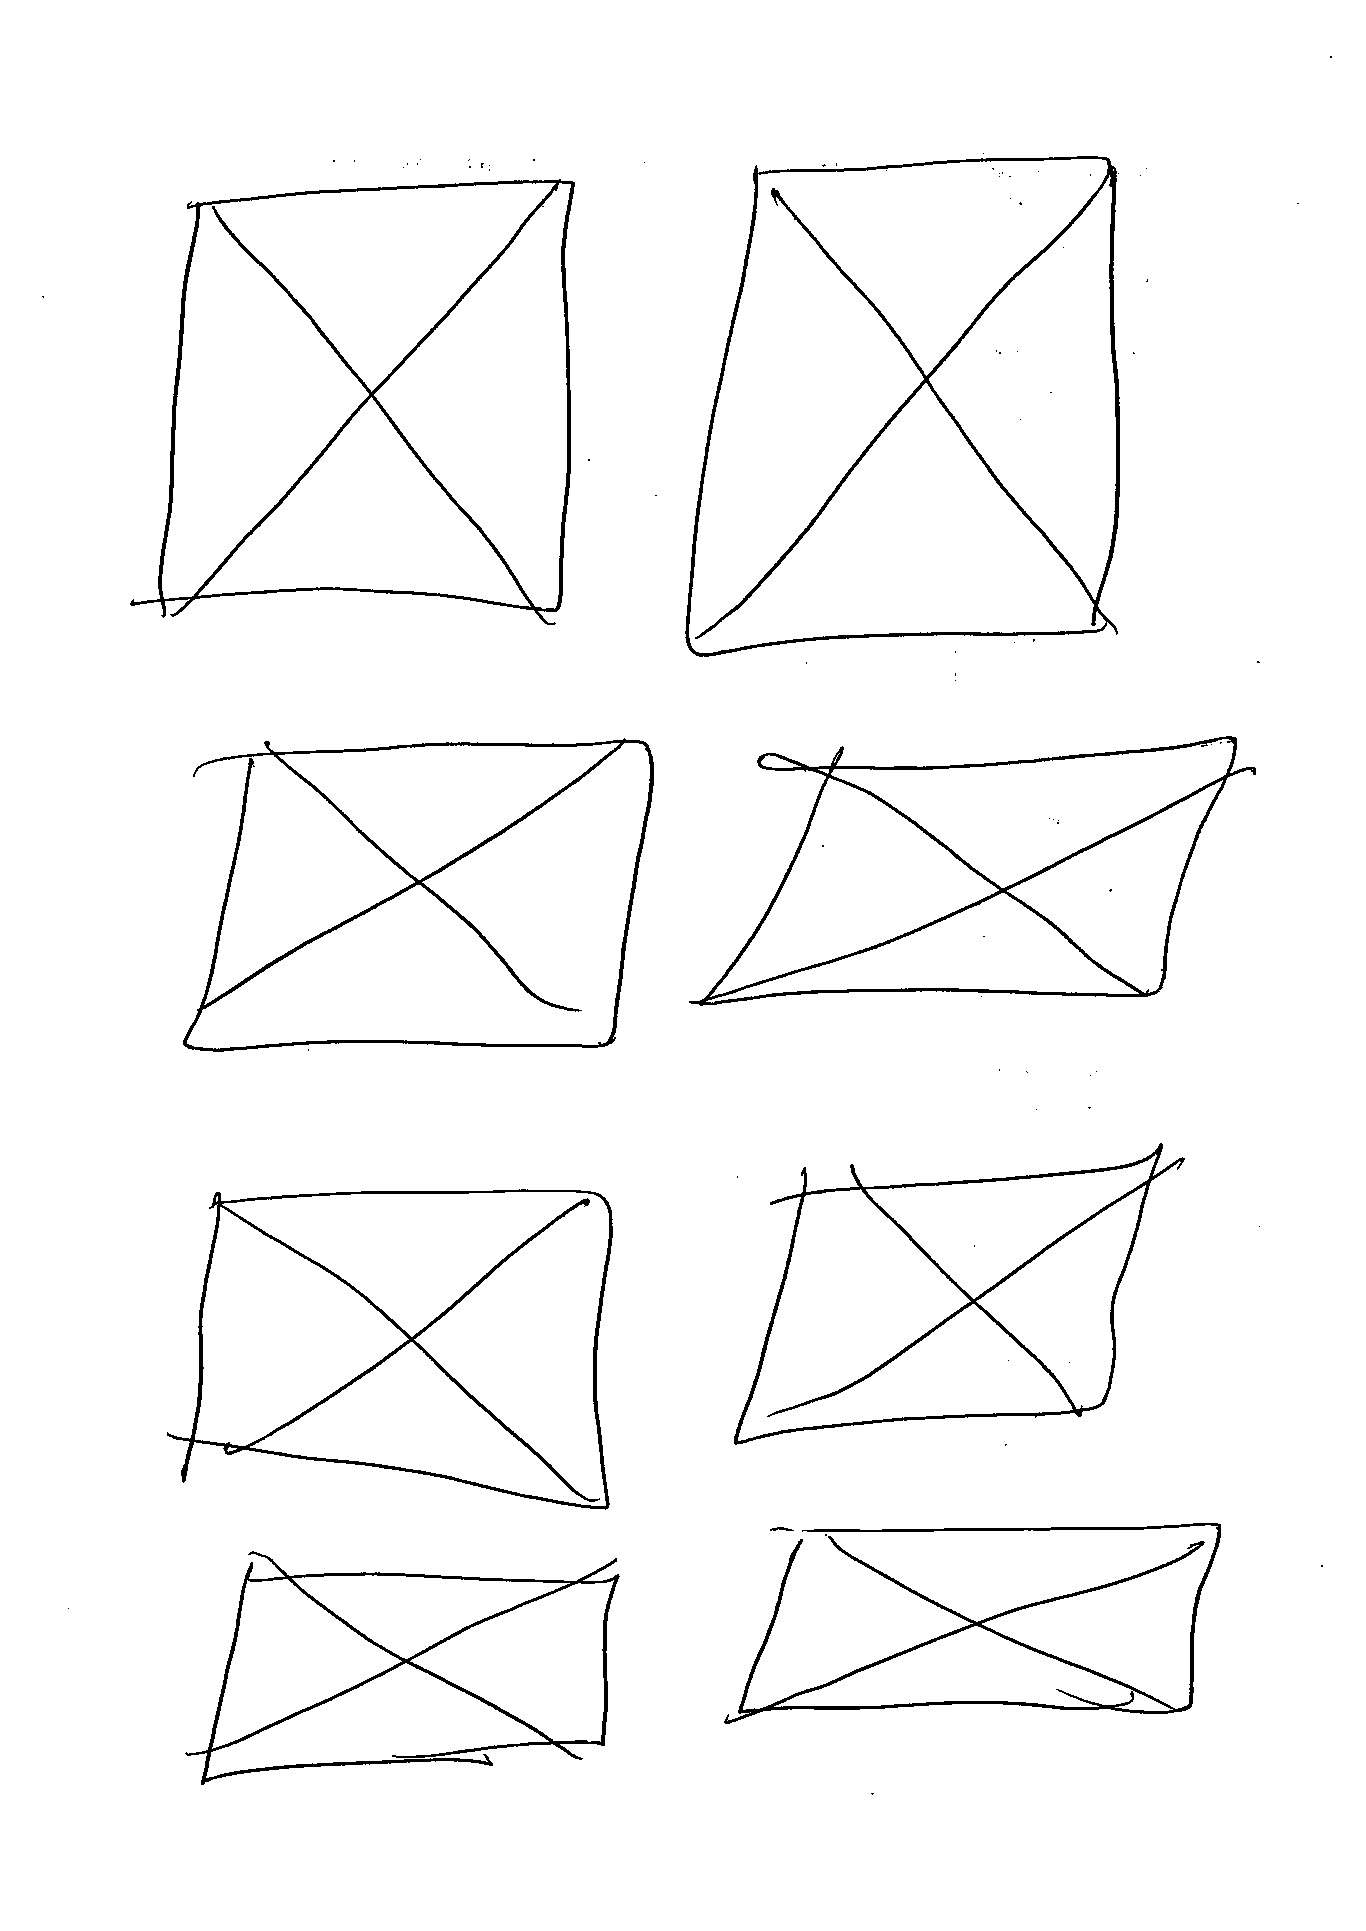Image: (677, 149, 1127, 665), (151, 170, 580, 620), (177, 732, 662, 1056), (689, 729, 1248, 1008), (180, 1181, 624, 1520), (724, 1150, 1165, 1450), (727, 1517, 1227, 1728), (192, 1561, 618, 1788)
